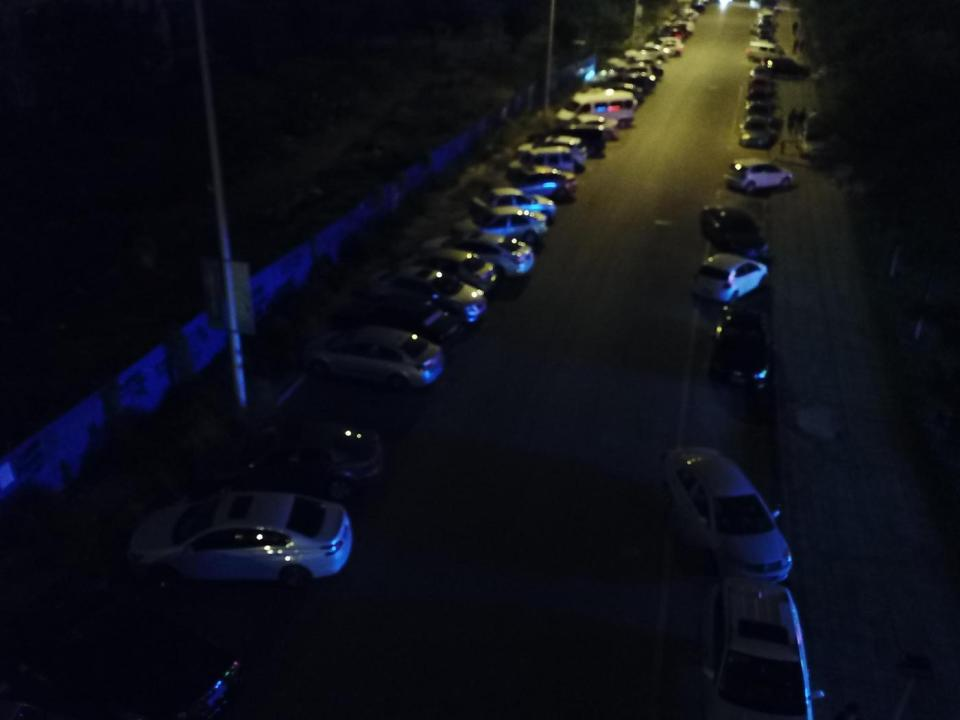car: (11, 605, 243, 720), (118, 490, 355, 593), (657, 444, 793, 589), (691, 572, 824, 720), (185, 423, 393, 509), (296, 324, 446, 388), (370, 264, 488, 324), (706, 301, 780, 392), (396, 244, 496, 298), (419, 230, 536, 275), (355, 294, 459, 344), (695, 195, 767, 260), (690, 250, 773, 304), (452, 205, 550, 247), (489, 163, 578, 207), (469, 187, 555, 222), (508, 134, 590, 168), (726, 158, 798, 195), (535, 124, 611, 158), (555, 113, 616, 141), (591, 78, 645, 108), (739, 112, 776, 149), (601, 71, 658, 95), (762, 56, 810, 81), (605, 64, 657, 87), (611, 62, 664, 82), (623, 42, 669, 63), (642, 37, 684, 59), (610, 57, 664, 74), (800, 129, 830, 156), (656, 25, 693, 46), (745, 89, 772, 114), (661, 18, 697, 36), (667, 7, 699, 23), (748, 75, 772, 94), (750, 63, 772, 80), (748, 24, 772, 38), (758, 16, 776, 31), (758, 10, 774, 23), (689, 0, 706, 12), (756, 30, 774, 41)
van: (562, 90, 637, 132), (501, 148, 576, 180), (745, 39, 785, 60)
